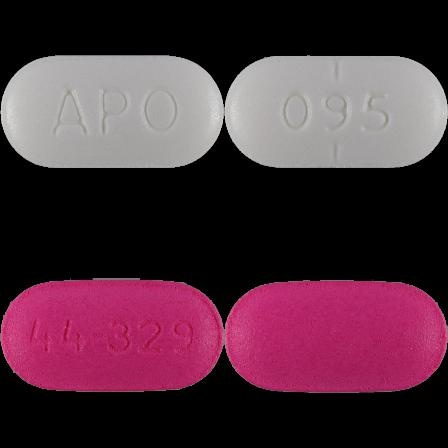0904-5524: (0, 0, 224, 224)
